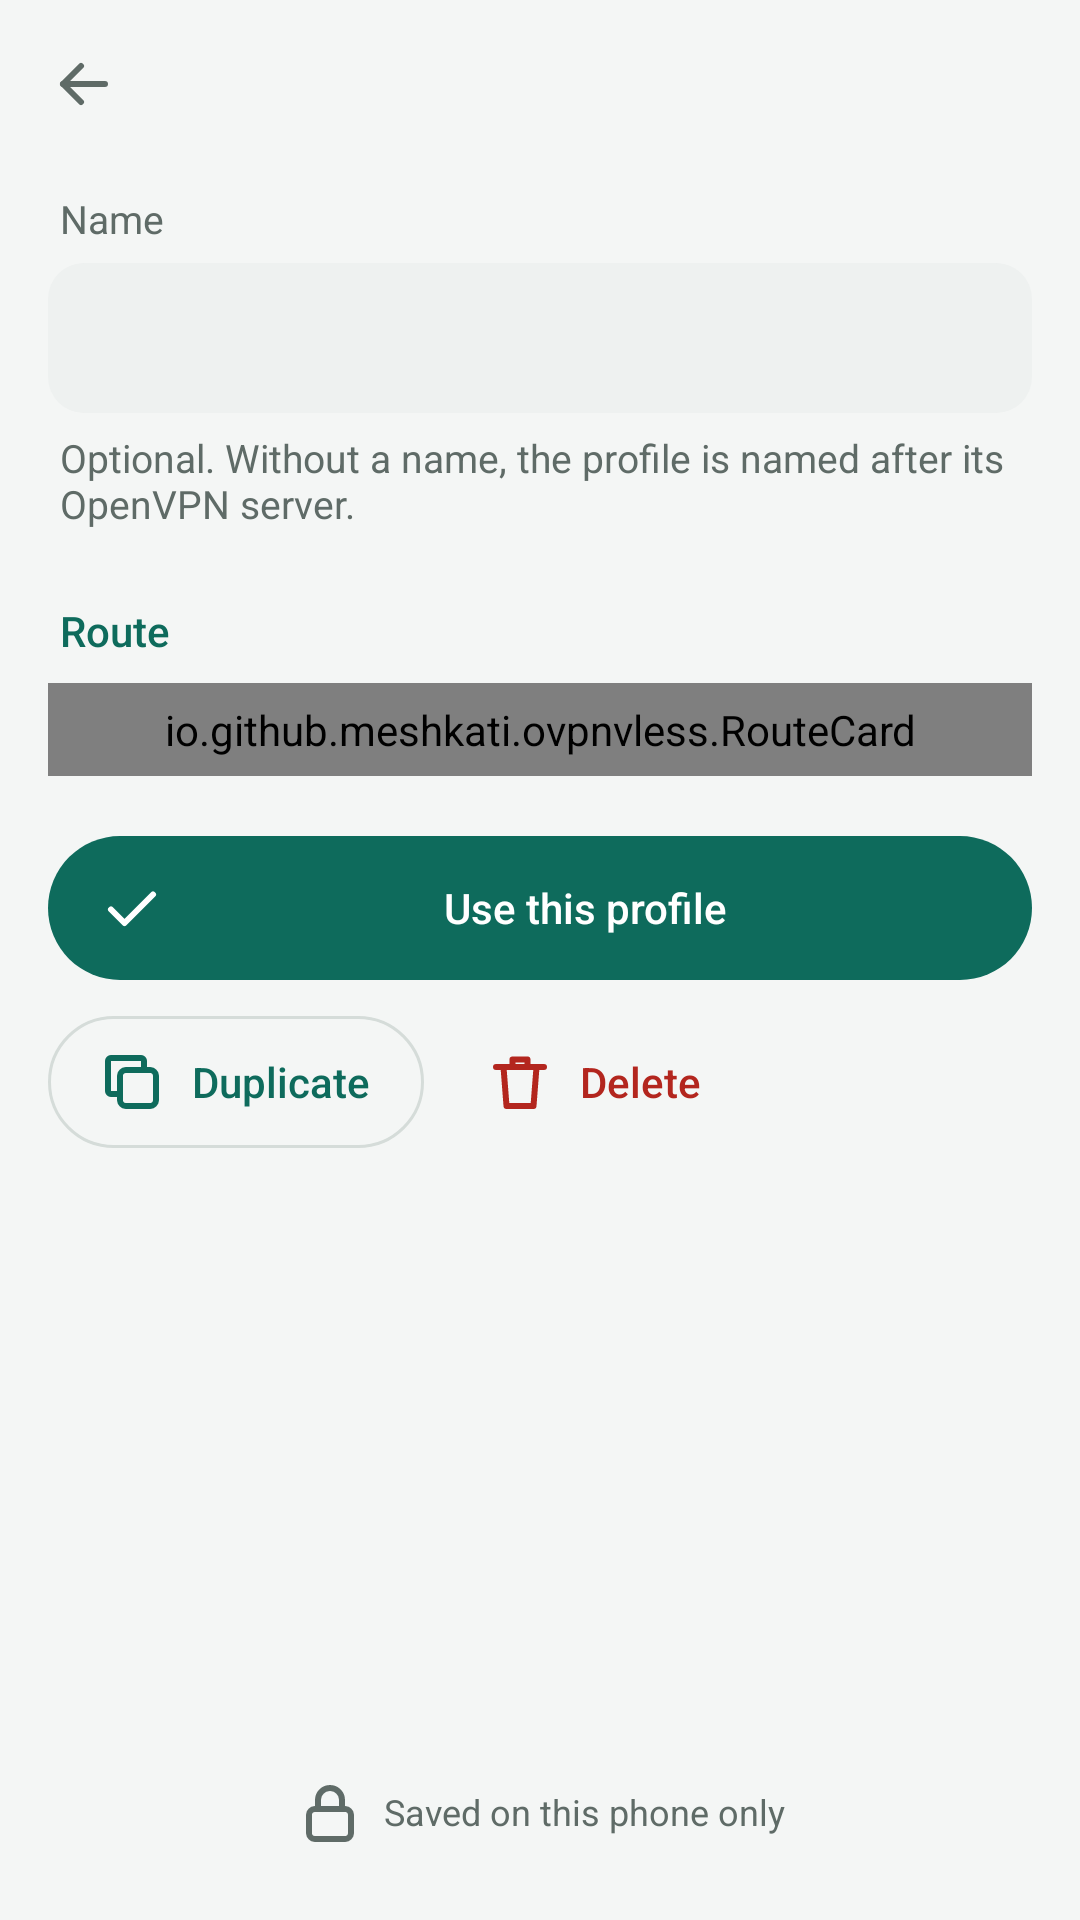

Point at icon controls on the screen. Image size 1080 × 1920, points as point (x, y).
Back: point (84, 84)
